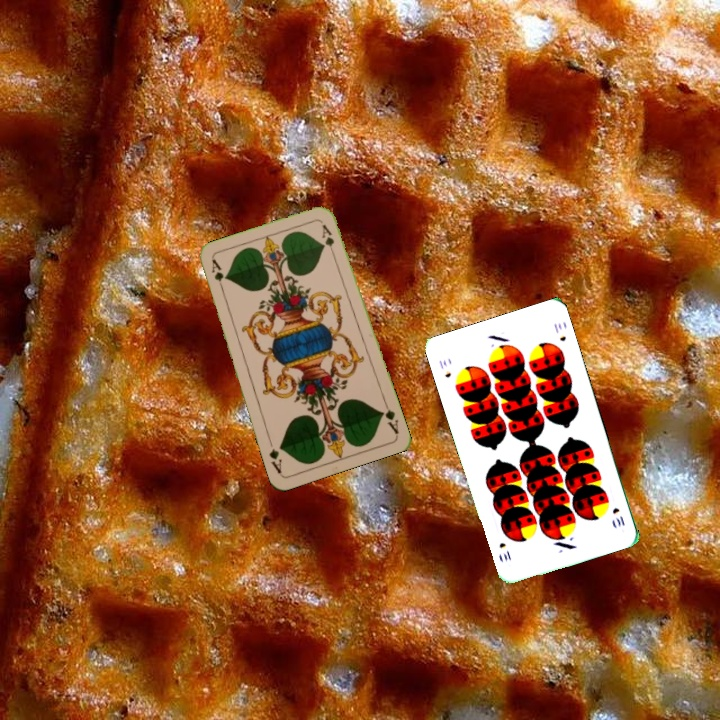GA: (377, 397, 401, 437), (207, 256, 227, 296)
S10: (608, 503, 627, 529), (435, 356, 454, 380)
